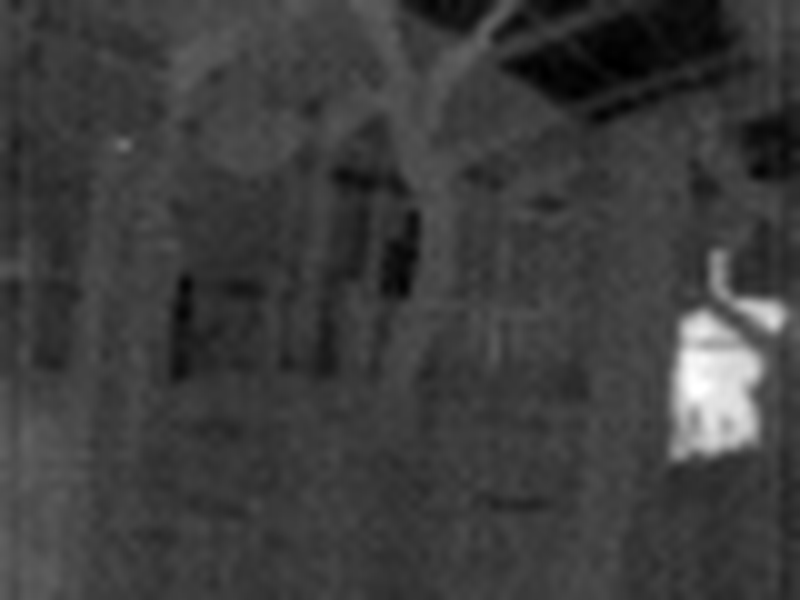elephant: (643, 250, 791, 464)
